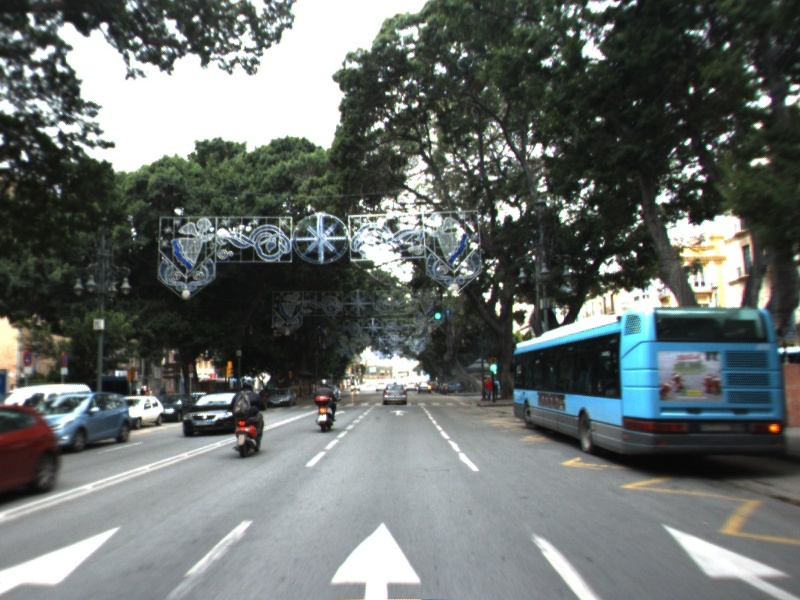STRAIGHT: (656, 520, 800, 600), (327, 516, 426, 600), (388, 408, 410, 417)
